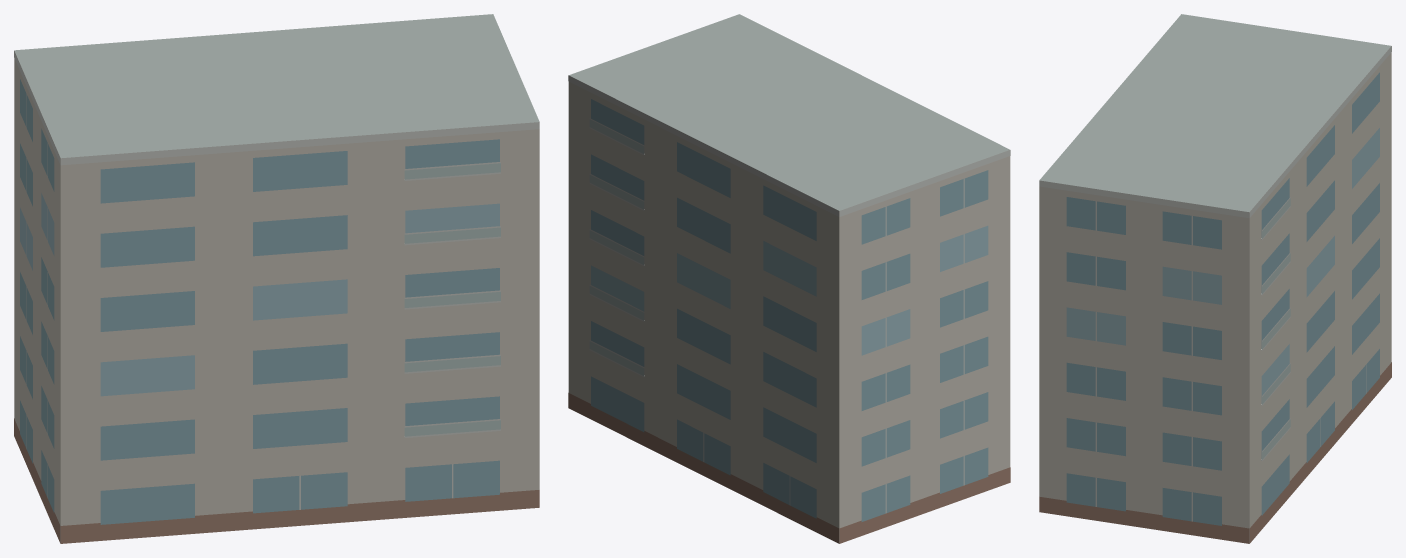
The model's file is survey-upis-32894451.glb.
3 views of the same model, side by side, from view 1: azimuth 30°, elevation 25°; view 2: azimuth 150°, elevation 25°; view 3: azimuth 270°, elevation 25° (orthographic). The views are drawn at different scales.
Visible parts, largest first — view 1: survey-upis-32894451.tmp; view 2: survey-upis-32894451.tmp; view 3: survey-upis-32894451.tmp.
Part boxes in pixels (box(x1,y1,x2,y2)): survey-upis-32894451.tmp: box(14, 14, 539, 543); survey-upis-32894451.tmp: box(568, 14, 1010, 543); survey-upis-32894451.tmp: box(1039, 14, 1391, 543).
Size of the model in its own units: 17.06 by 13.3 by 12.82.
